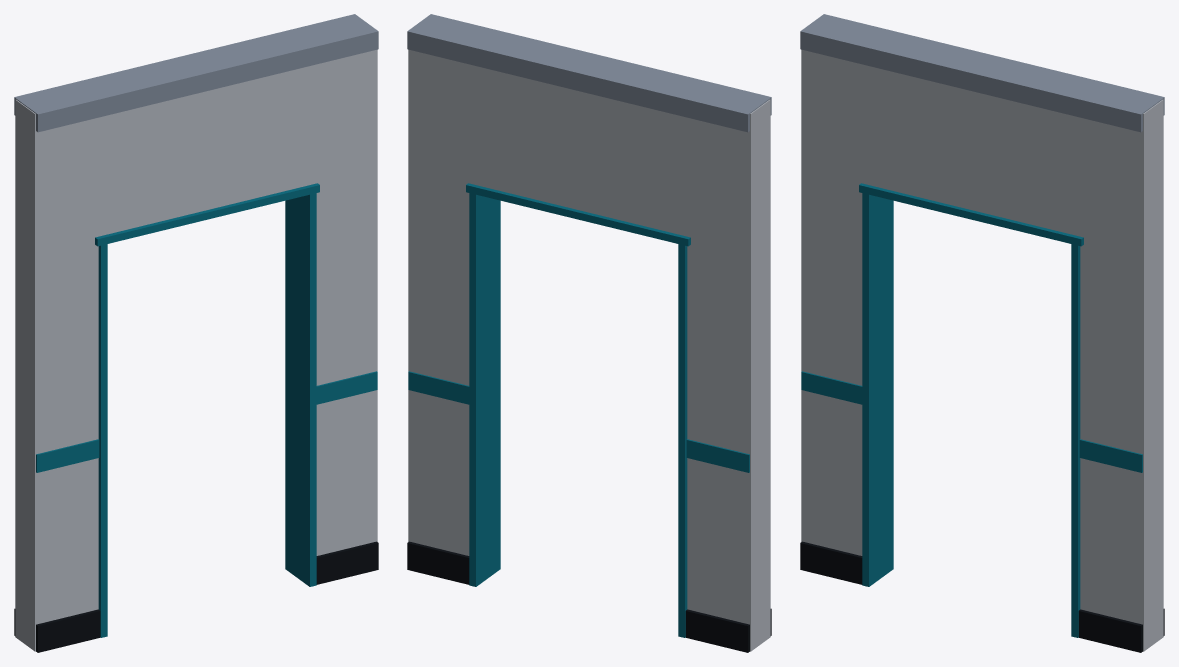
File: SM_Wall_Door_2x3.glb
The picture shows the model from 3 angles, left to right: view 1: azimuth 30°, elevation 25°; view 2: azimuth 150°, elevation 25°; view 3: azimuth 330°, elevation 25°; orthographic projection.
Visible parts, largest first — view 1: SM_Wall_Door_2x3-col; view 2: SM_Wall_Door_2x3-col; view 3: SM_Wall_Door_2x3-col.
Boxes of the visible parts, x1,y1,x2,y2 form: SM_Wall_Door_2x3-col: [14, 14, 378, 652]; SM_Wall_Door_2x3-col: [407, 14, 771, 652]; SM_Wall_Door_2x3-col: [800, 14, 1164, 652].
Size of the model in its own units: 2 by 3 by 0.25.
